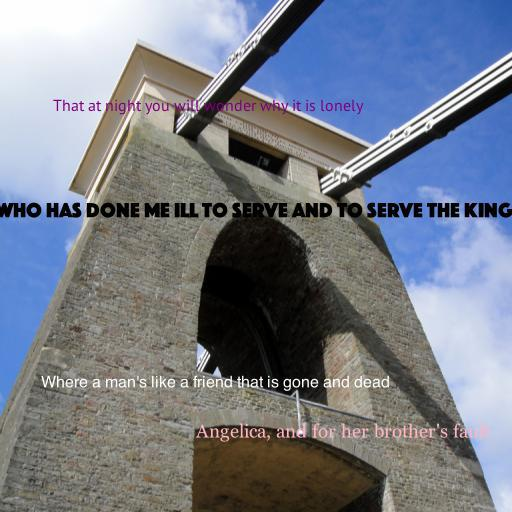Georgia: (196, 423, 490, 442)
PT Sans: (53, 99, 363, 115)
Phosphate: (0, 202, 512, 218)
SF Pro: (40, 375, 390, 391)
